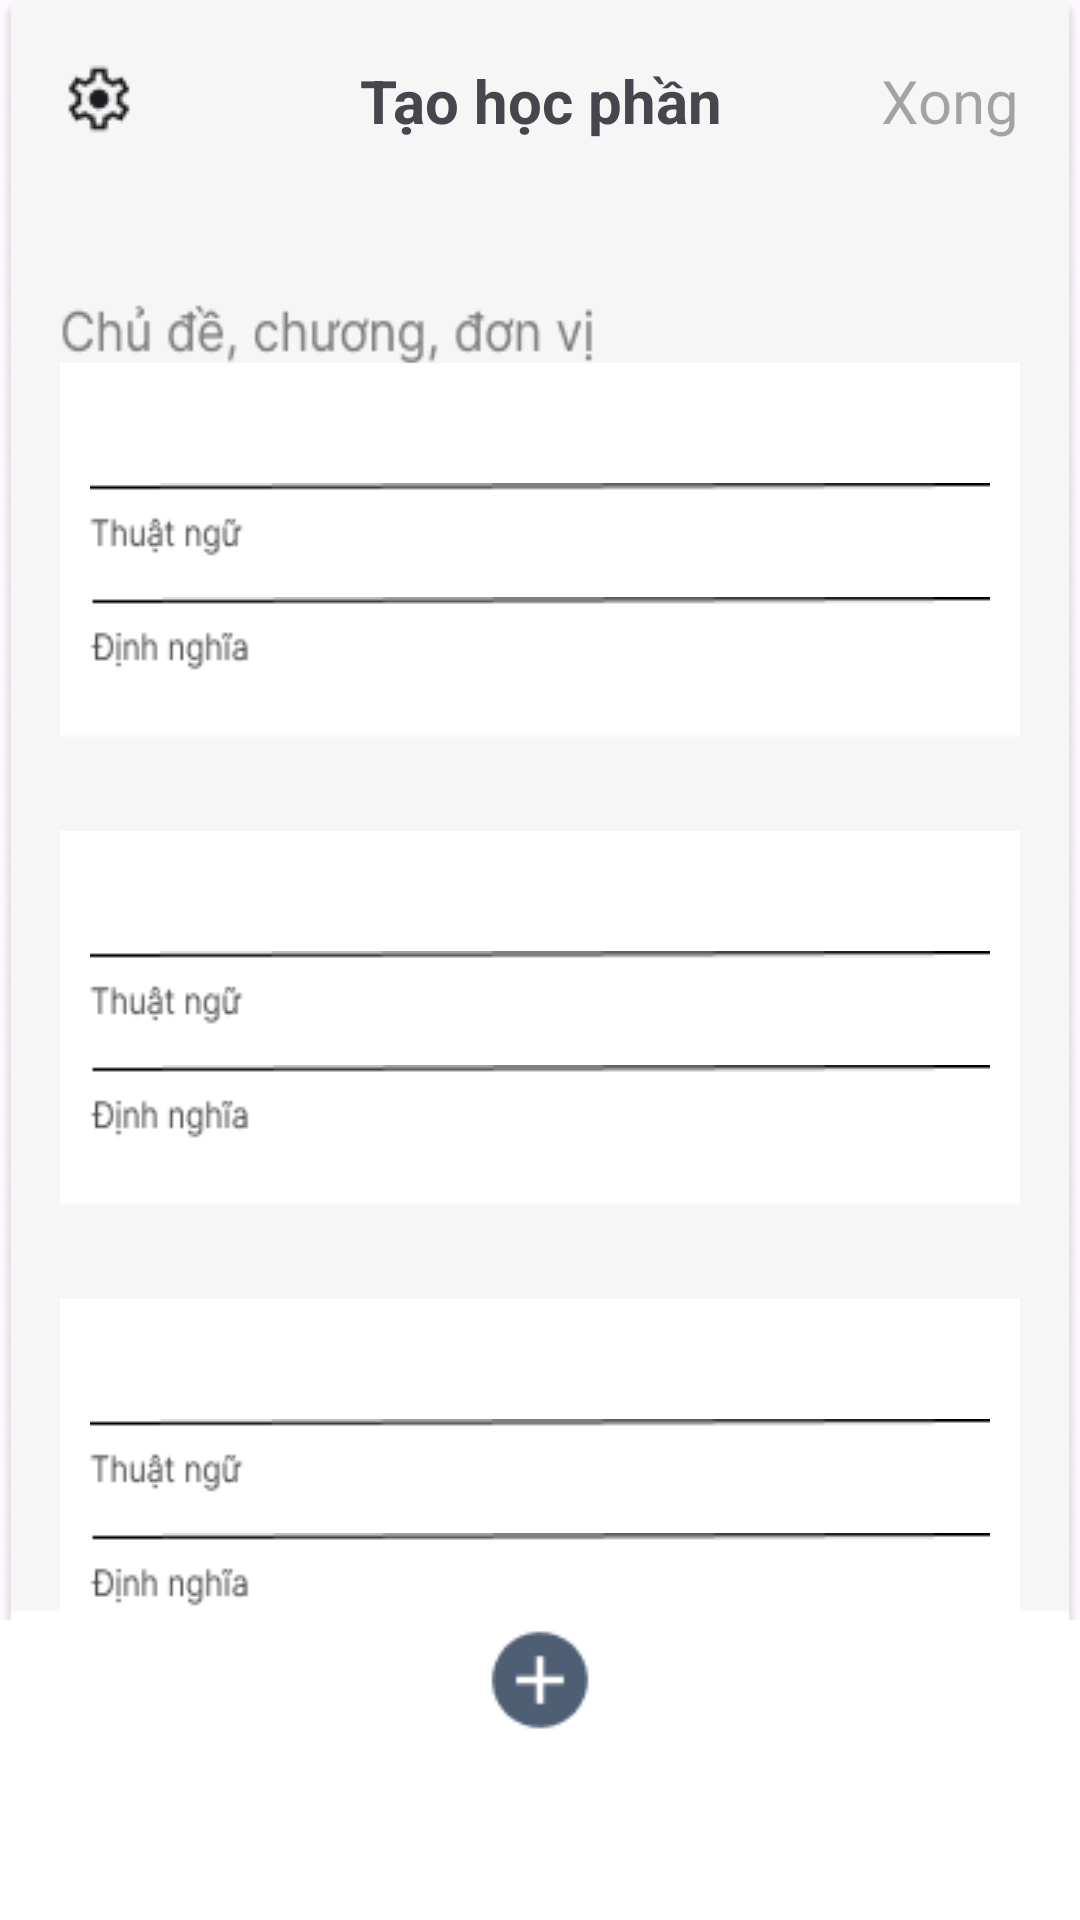

Point at icon controls on the screen. Image size 1080 × 1920, points as [x,y].
setting: [99,99]
